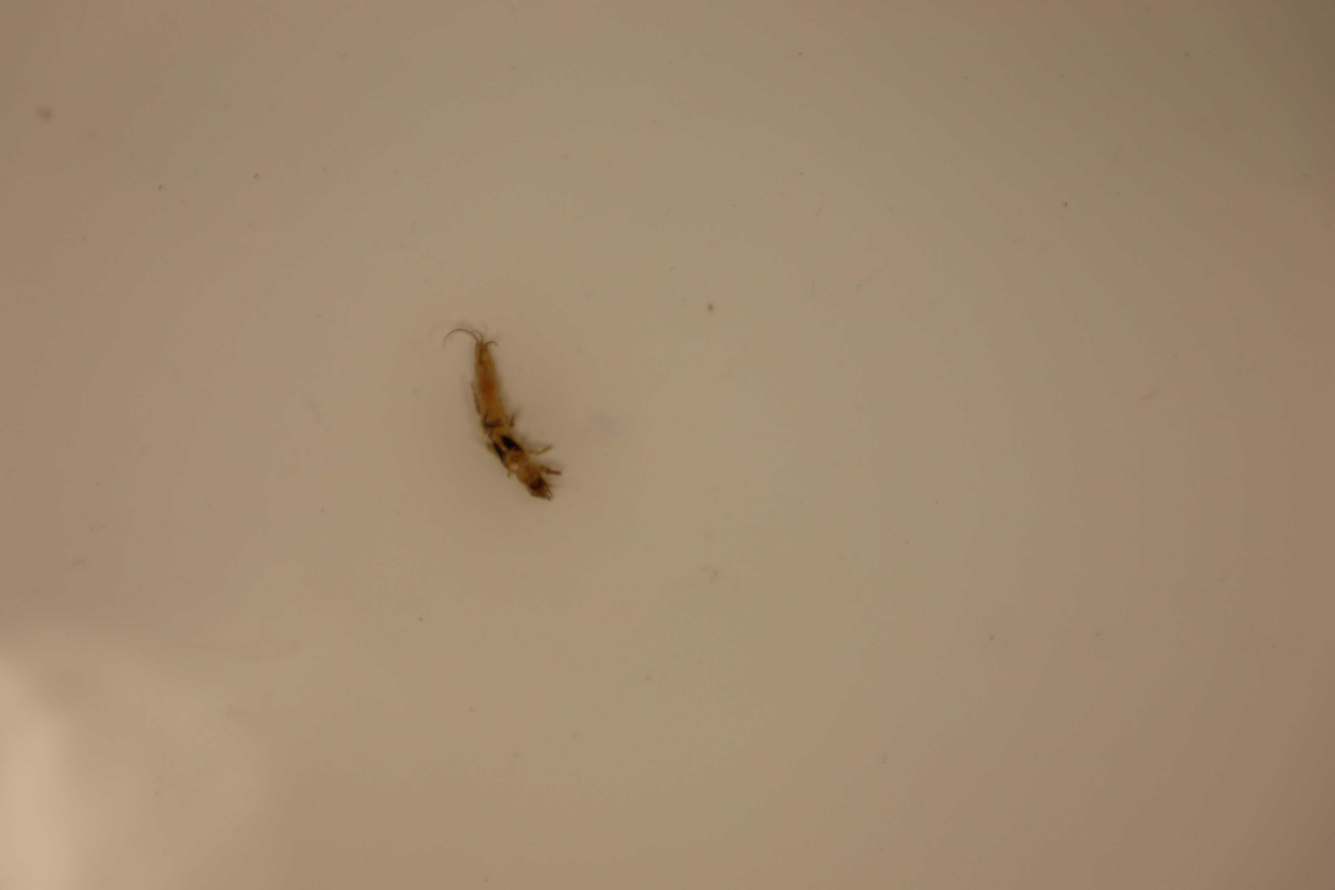Other: (440, 322, 564, 505)
